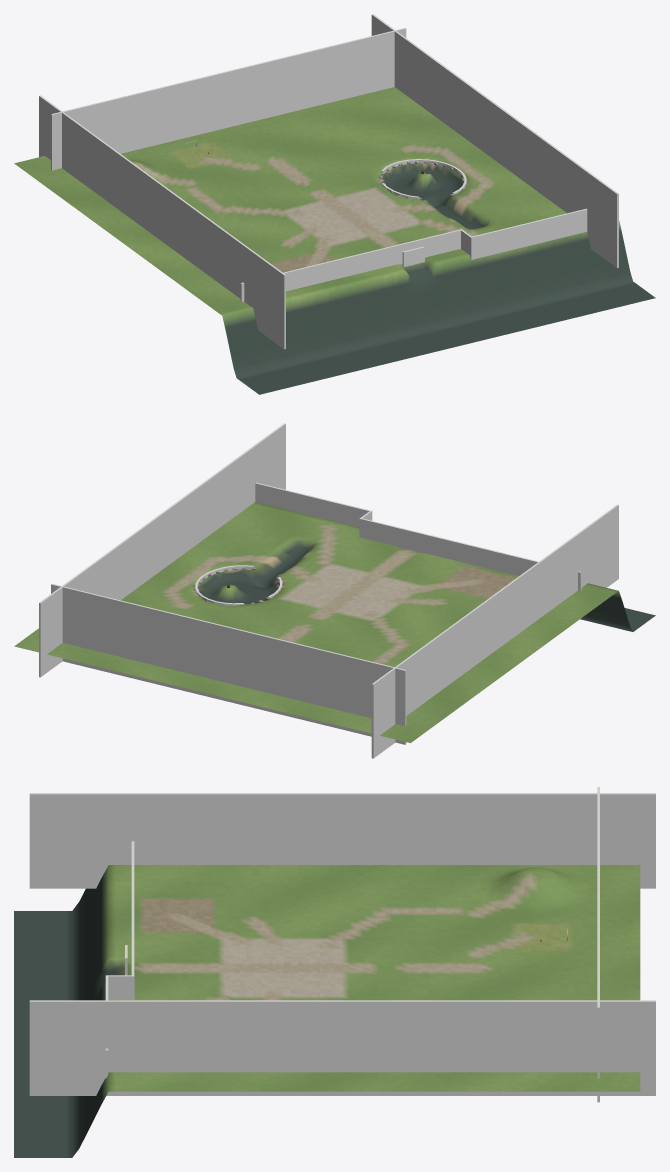
The model's file is academy.glb.
3 views of the same model, one above another, from view 1: azimuth 30°, elevation 25°; view 2: azimuth 150°, elevation 25°; view 3: azimuth 270°, elevation 25° (orthographic). The views are drawn at different scales.
Visible parts, largest first — view 1: GROUND_academy, COL_academy; view 2: COL_academy, GROUND_academy; view 3: COL_academy, GROUND_academy.
Boxes of the visible parts, <box> form: GROUND_academy: <box>14,87,655,394</box>; COL_academy: <box>39,14,618,349</box>; COL_academy: <box>39,423,618,758</box>; GROUND_academy: <box>14,502,655,742</box>; COL_academy: <box>29,787,655,1102</box>; GROUND_academy: <box>14,865,640,1157</box>.
Bounding box in the file's own units: 112 × 29 × 123.
